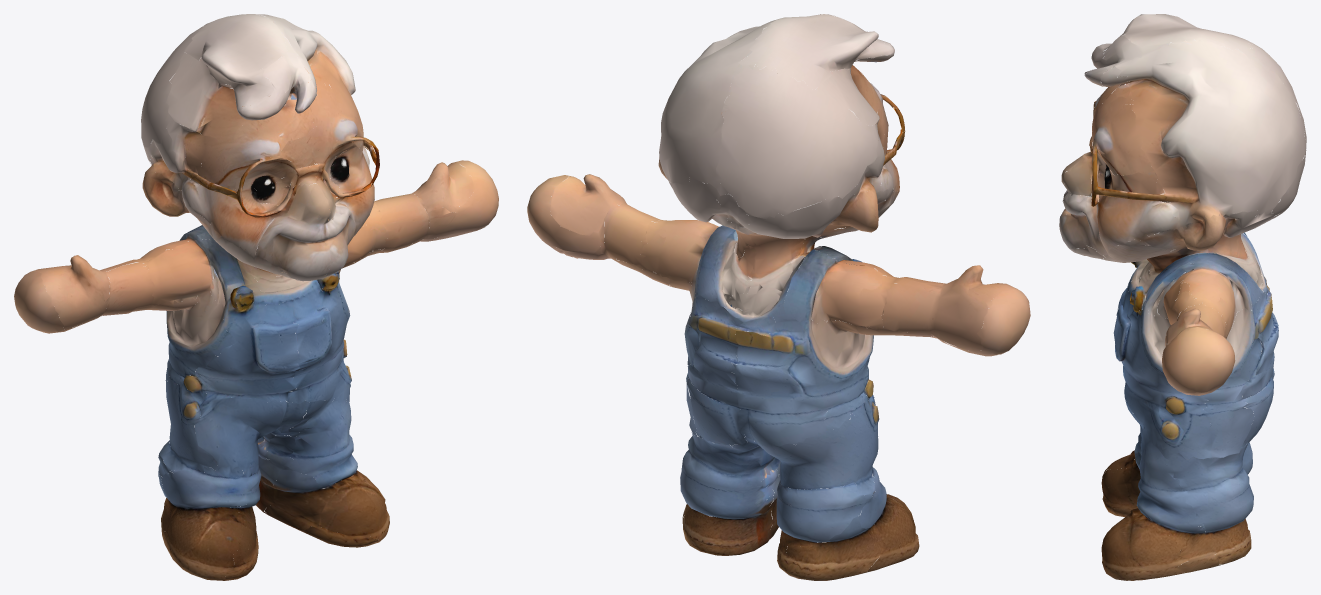
File: donald.glb
3 renders of one model, left to right at view 1: azimuth 30°, elevation 25°; view 2: azimuth 150°, elevation 25°; view 3: azimuth 270°, elevation 25°, orthographic. The views are drawn at different scales.
Parts seen in each view (by area): view 1: donald; view 2: donald; view 3: donald.
Part boxes in pixels (box(x1,y1,x2,y2)): donald: box(14, 14, 498, 580); donald: box(527, 14, 1030, 580); donald: box(1059, 14, 1306, 580).
Size of the model in its own units: 0.9547 by 0.9932 by 0.4394.
Materials: 1 (1 with a texture image).
